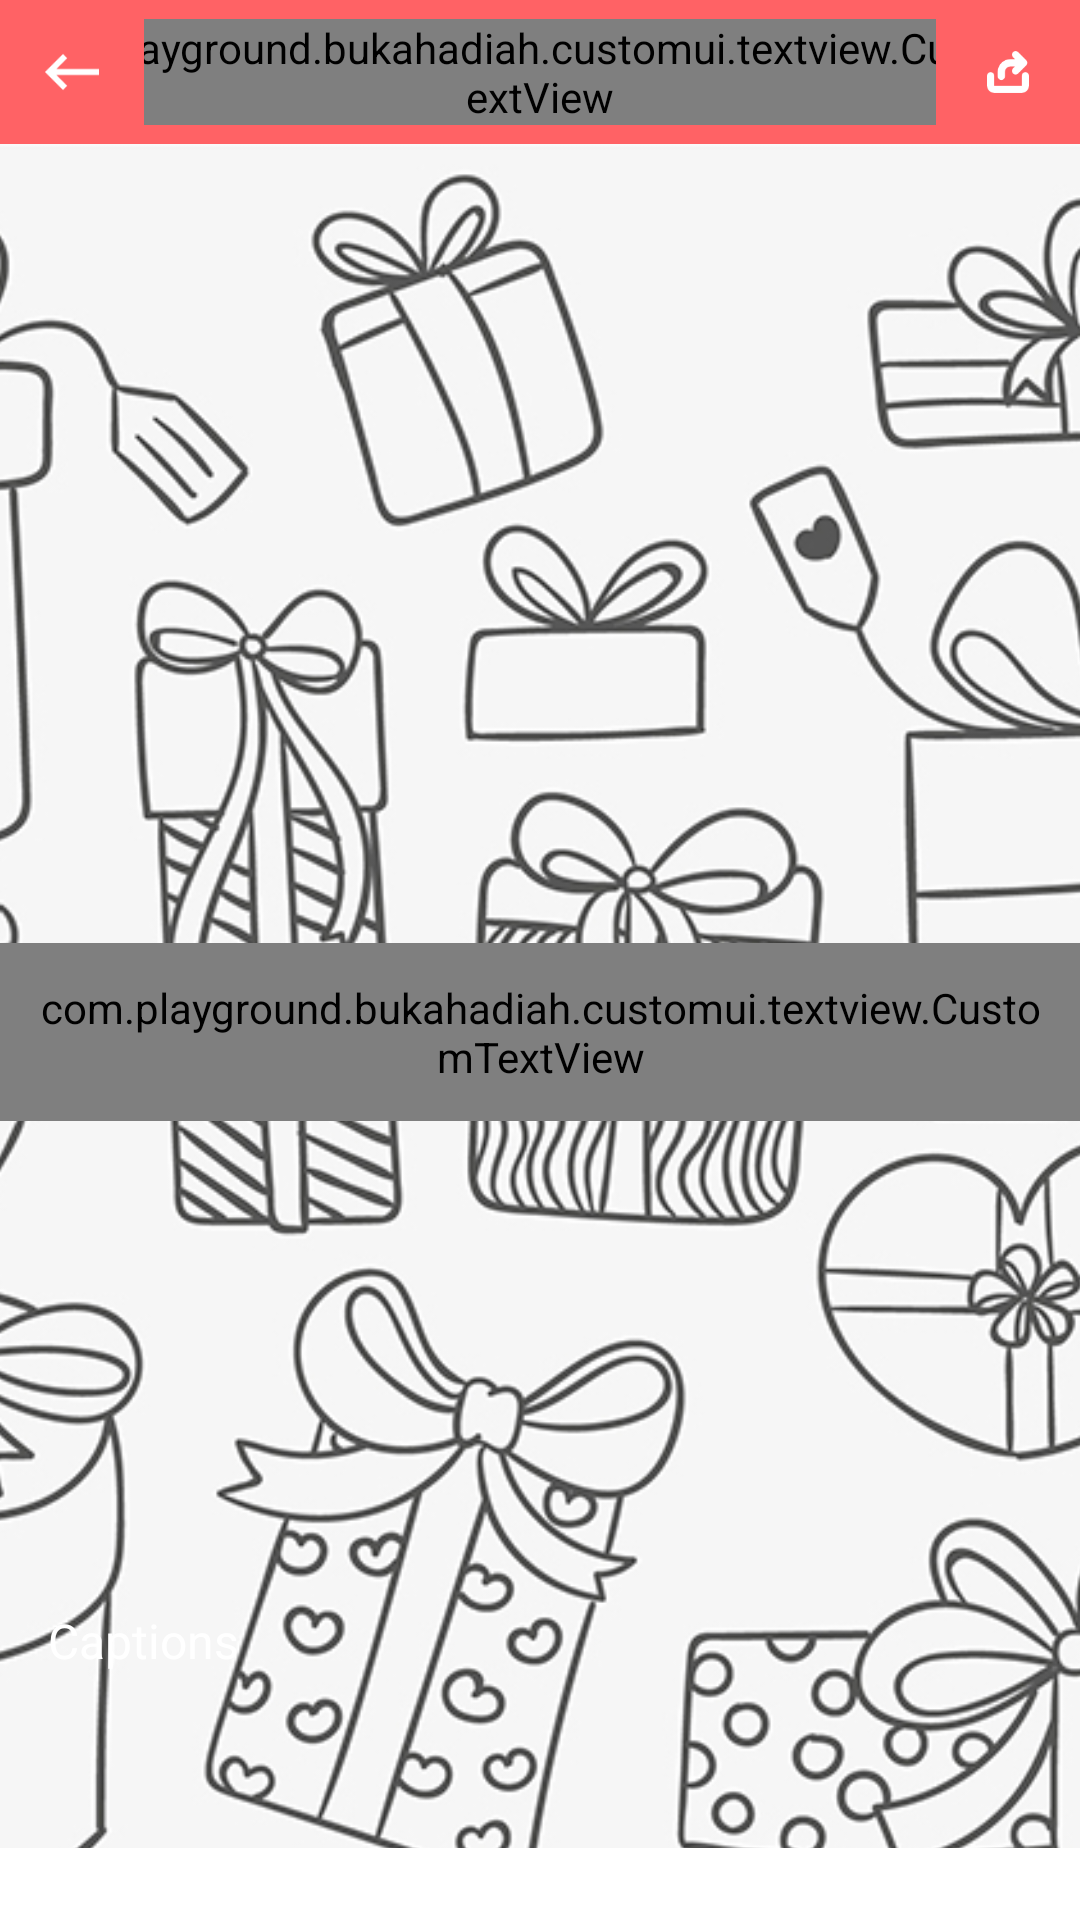

Icons on this 1080 x 1920 Android screen, each with its box as (x1, y1, x2, y2):
back: (45, 54, 99, 90)
send post: (987, 51, 1029, 93)
